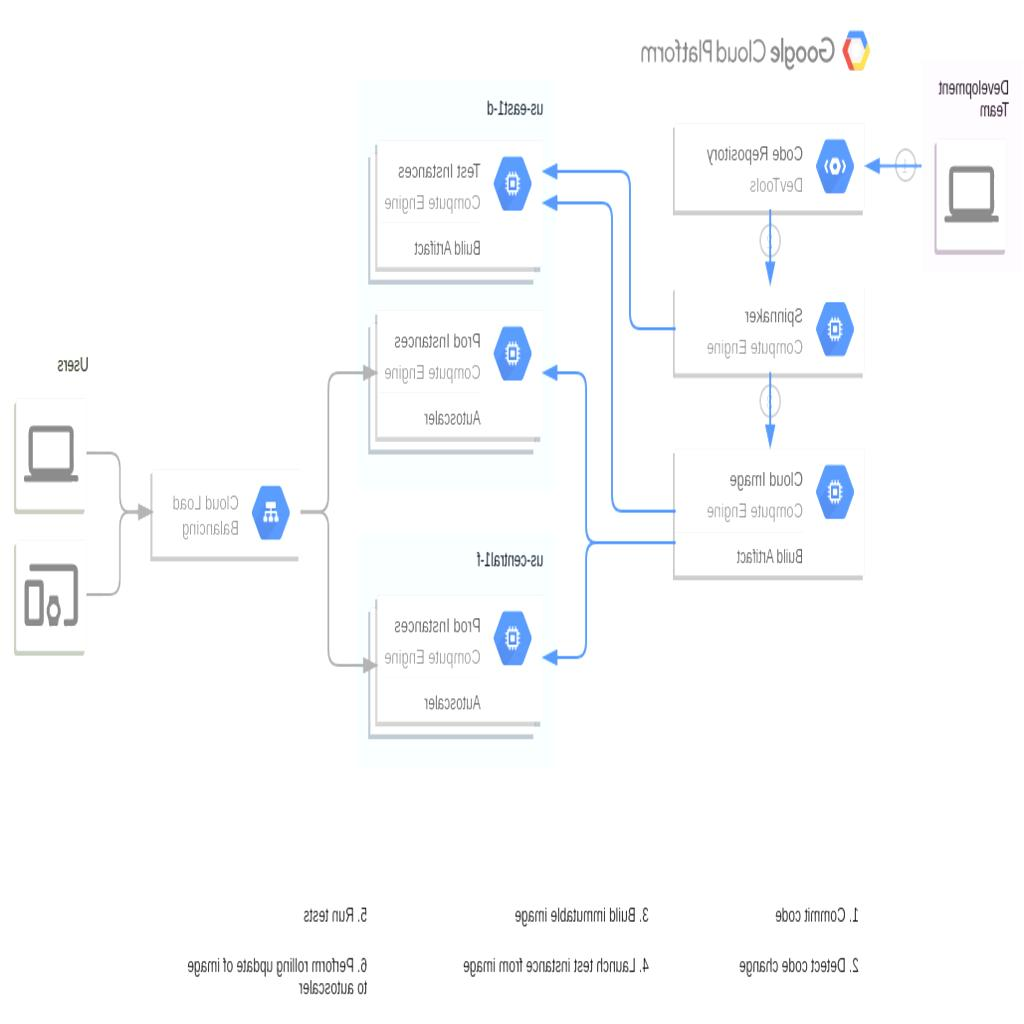actor: (937, 141, 1009, 250), (16, 400, 88, 509), (16, 542, 88, 650)
api_gateway: (152, 467, 300, 557)
compute: (674, 448, 864, 576), (377, 141, 543, 269), (377, 310, 543, 438), (377, 596, 543, 724), (674, 122, 864, 212), (674, 286, 864, 376)
data_flow: (572, 358, 698, 532), (300, 364, 372, 660), (562, 548, 698, 660), (595, 169, 675, 333), (102, 467, 174, 557), (766, 370, 772, 460), (766, 212, 772, 290), (897, 164, 946, 170)
trust_boundary: (132, 0, 892, 814), (356, 77, 557, 492), (356, 532, 557, 768), (1, 336, 103, 688), (922, 60, 1024, 274)
